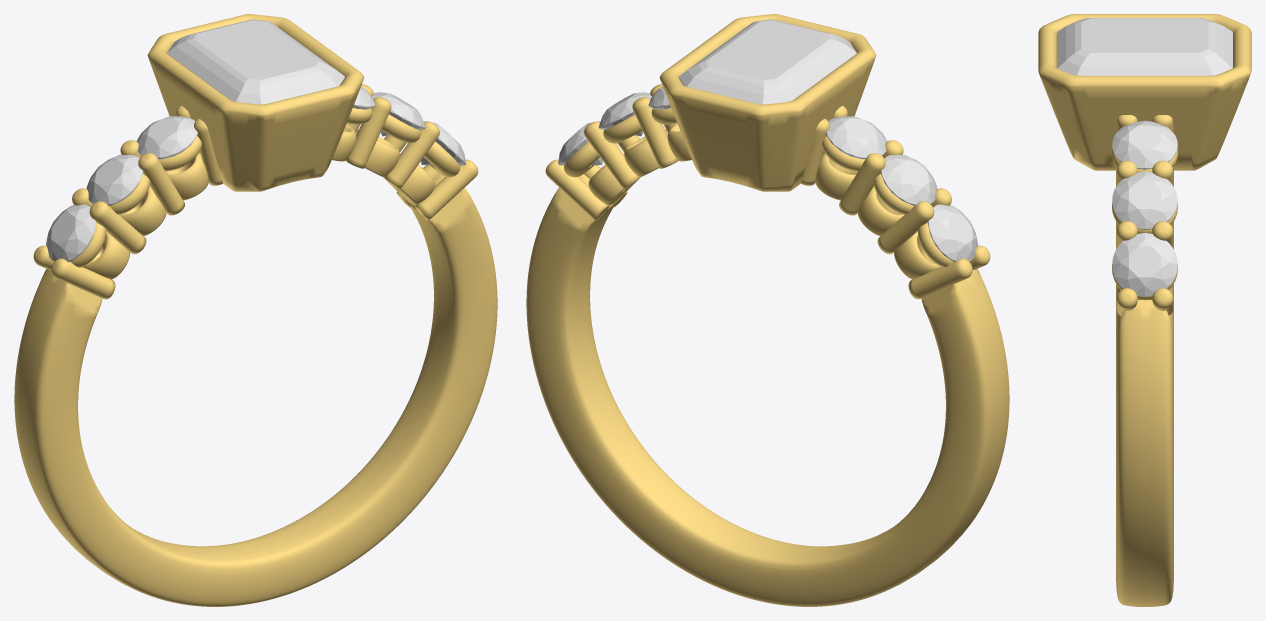
File: diamond-emerald-yellowgold-bezelset-straightband-7stone.glb
3 renders of one model, left to right at view 1: azimuth 30°, elevation 25°; view 2: azimuth 150°, elevation 25°; view 3: azimuth 270°, elevation 25°, orthographic.
Visible parts, largest first — view 1: metal.001, stone.001, side.006, side.007, side.008, side.010; view 2: metal.001, stone.001, side.006, side.007, side.008, side.010, side.011; view 3: metal.001, stone.001, side.011, side.010, side.009.
Part boxes in pixels (x1=…): metal.001: x1=14, y1=14, x2=497, y2=606; stone.001: x1=167, y1=19, x2=344, y2=104; side.006: x1=46, y1=204, x2=96, y2=261; side.007: x1=86, y1=154, x2=143, y2=205; side.008: x1=136, y1=116, x2=197, y2=159; side.010: x1=371, y1=92, x2=425, y2=136; metal.001: x1=526, y1=14, x2=1009, y2=606; stone.001: x1=679, y1=19, x2=856, y2=104; side.006: x1=927, y1=204, x2=977, y2=261; side.007: x1=880, y1=154, x2=937, y2=205; side.008: x1=826, y1=116, x2=887, y2=159; side.010: x1=598, y1=92, x2=652, y2=136; side.011: x1=558, y1=121, x2=602, y2=165; metal.001: x1=1038, y1=14, x2=1251, y2=606; stone.001: x1=1057, y1=18, x2=1232, y2=75; side.011: x1=1112, y1=233, x2=1177, y2=296; side.010: x1=1112, y1=171, x2=1177, y2=229; side.009: x1=1112, y1=120, x2=1177, y2=169.
Bounding box in the file's own units: 20.5 × 22.94 × 8.11.
